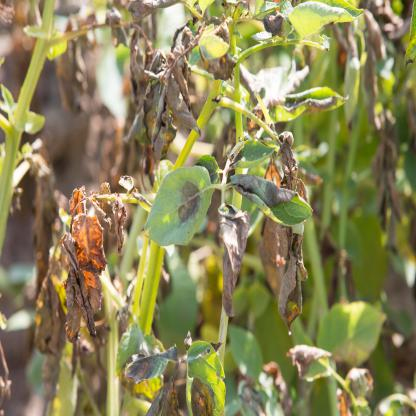potato leaf late blight: (143, 168, 212, 246)
